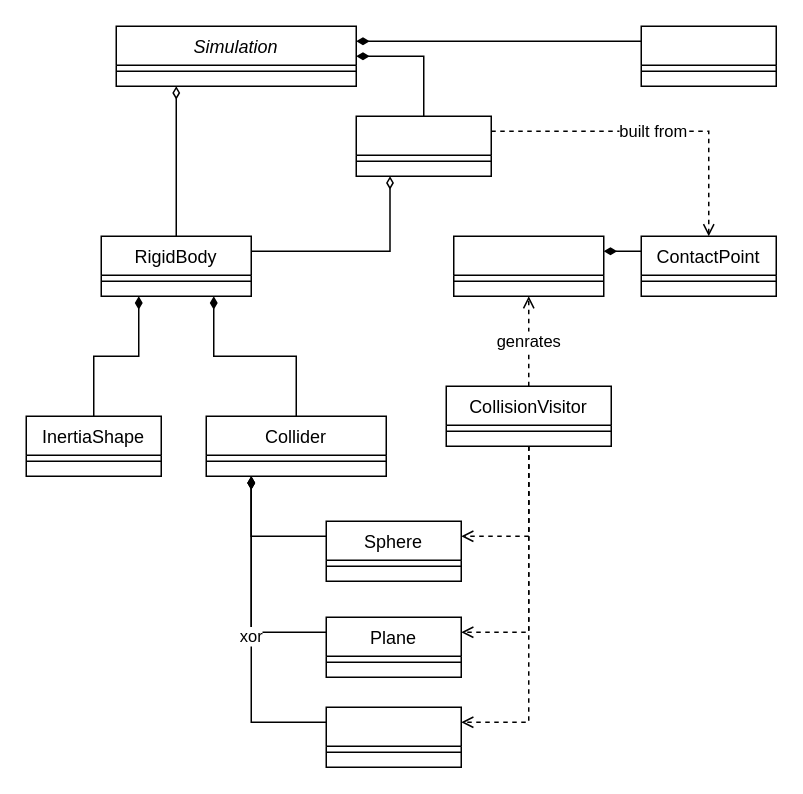
This 803x794 diagram has some shape labels left out. Here are the shapes that lost their labels. From the top down, the centre of each, then its label:
At point (708, 55): "Visualizer".
At point (423, 145): "Constraint".
At point (528, 265): "ContactManifold".
At point (393, 736): "OrientedBox".
